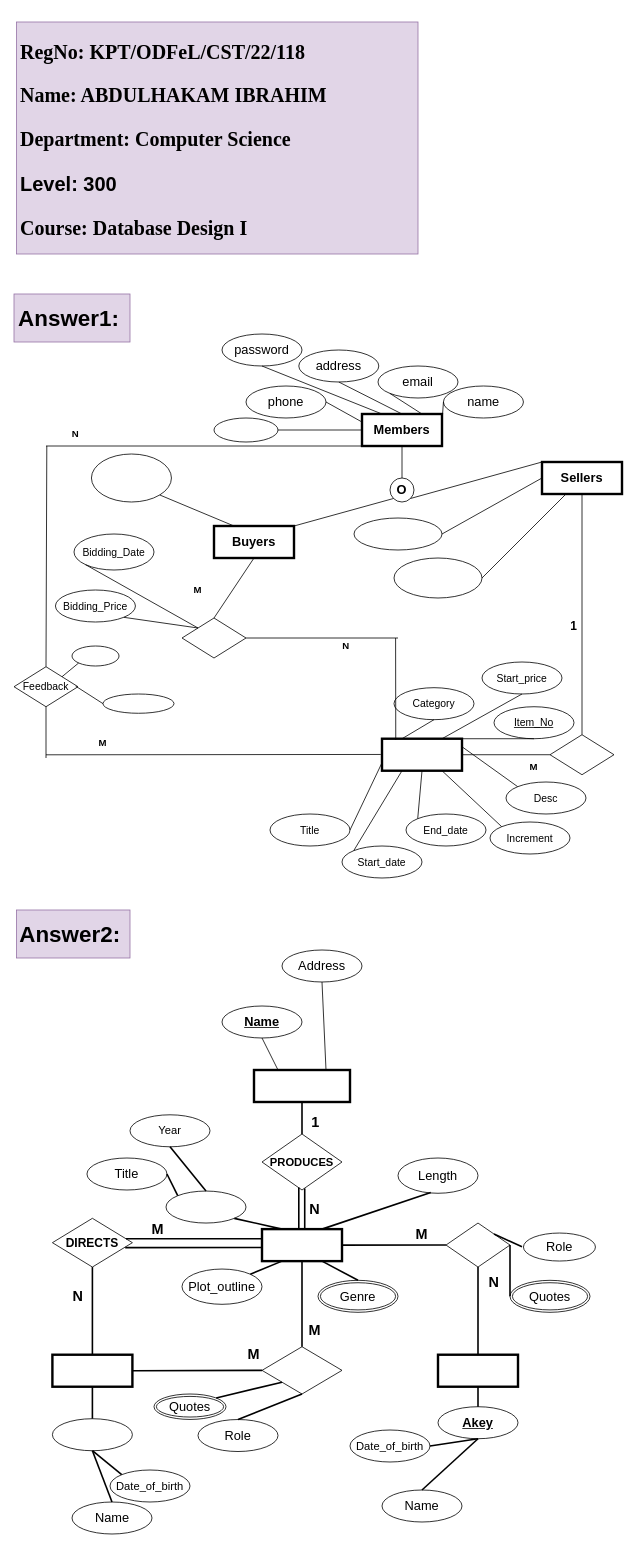
This 637x1548 diagram has some shape labels left out. Here are the shapes that lost their labels. From the top down, the centre of each, then its label:
At (x=245, y=429): "ID".
At (x=131, y=477): "Shipping Address".
At (x=397, y=533): "Account_No".
At (x=437, y=577): "Routing Number".
At (x=95, y=655): "Rate".
At (x=213, y=637): "Bids".
At (x=138, y=703): "Comment".
At (x=421, y=754): "Items".
At (x=581, y=754): "Place".
At (x=301, y=1085): "PRODUCTION".
At (x=205, y=1206): "Mkey".
At (x=301, y=1245): "MOVIE".
At (x=477, y=1244): "ACTS".
At (x=92, y=1370): "DIRECTOR".
At (x=301, y=1370): "DIR_ACTS".
At (x=477, y=1370): "ACTOR".
At (x=92, y=1434): "Dkey".
